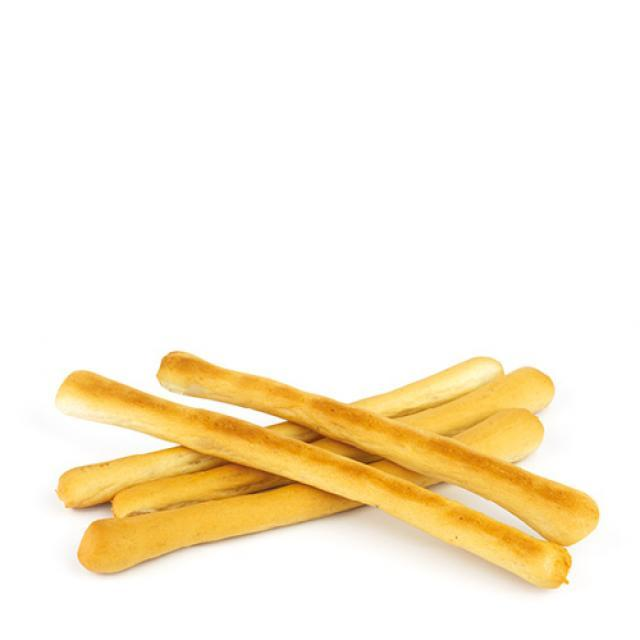Grissini: (53, 351, 602, 593)
